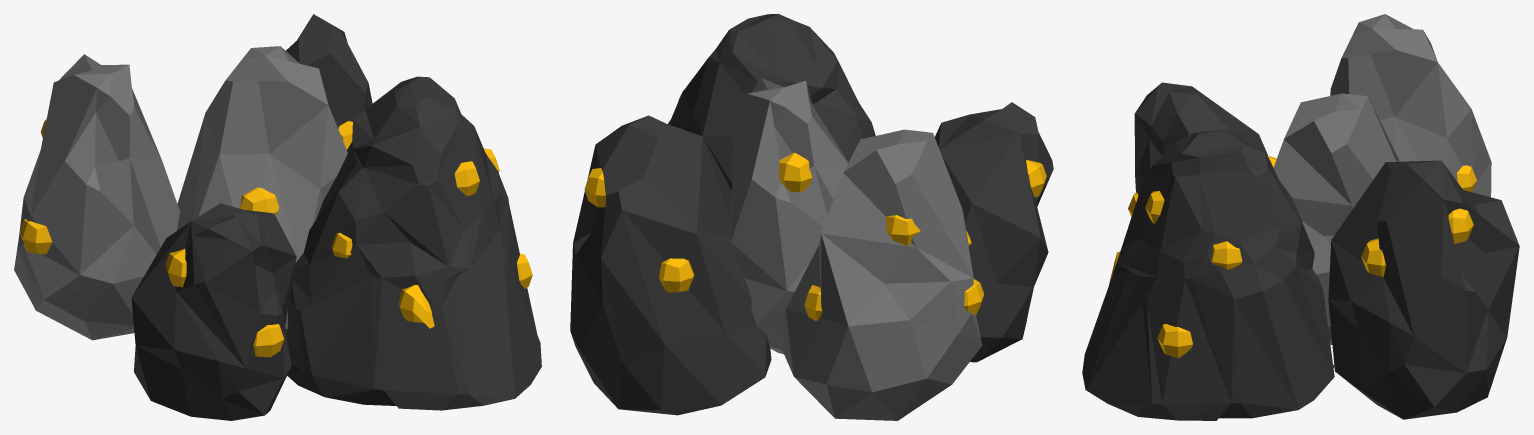
The model's file is winter_stone_gold_2.fbx.
The picture shows the model from 3 angles, left to right: view 1: azimuth 30°, elevation 25°; view 2: azimuth 150°, elevation 25°; view 3: azimuth 270°, elevation 25°; orthographic projection. The views are drawn at different scales.
Parts seen in each view (by area): view 1: Cube.015; view 2: Cube.015; view 3: Cube.015.
Part boxes in pixels (box(x1,y1,x2,y2)): Cube.015: box(14, 14, 541, 420); Cube.015: box(570, 14, 1053, 420); Cube.015: box(1082, 14, 1519, 420).
Bounding box in the file's own units: 66.72 × 48.17 × 68.19.
